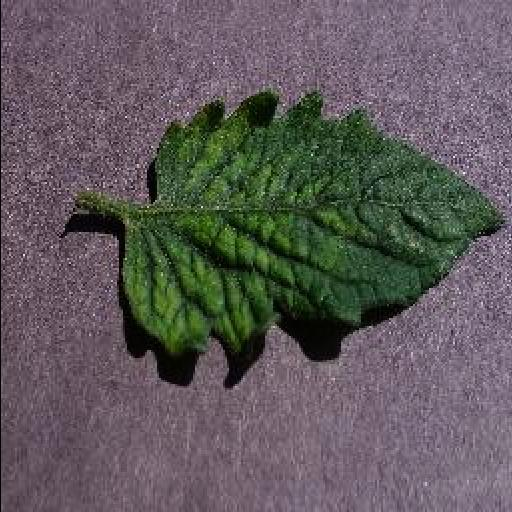disease_tomato: (118, 84, 510, 358)
